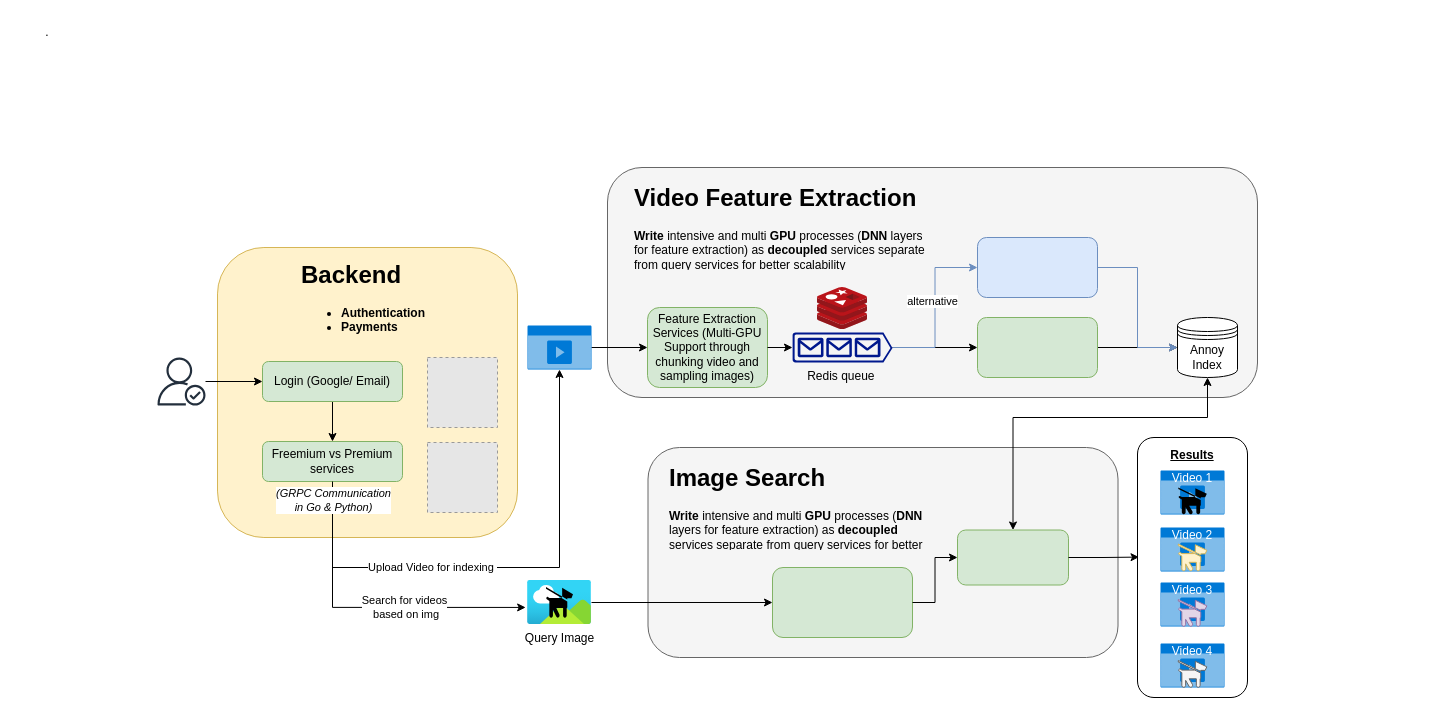
Some shapes in this 1434 by 715 pixel diagram are drawn without their labels. Grey dashed boxes stand in for pictures. Each missing label, with the centre of its shape:
"Add feature to Annoy Tree (Tree Based Ann Algorithm)" belongs at pixel 1037 347.
"Add feature to FAISS (Tree Based Ann Algorithm)" belongs at pixel 1037 267.
"Reranking service for closest matched videos" belongs at pixel 1012 557.
"Search Service (Extract Feature for Image and Search Nearest Neighbors)" belongs at pixel 842 602.
"Video" belongs at pixel 559 347.
